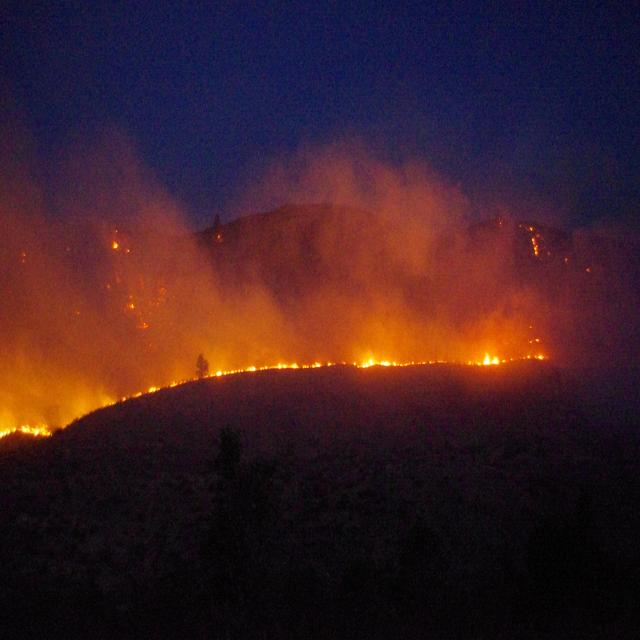Fire: (8, 342, 557, 453)
Smoke: (0, 90, 631, 375)
